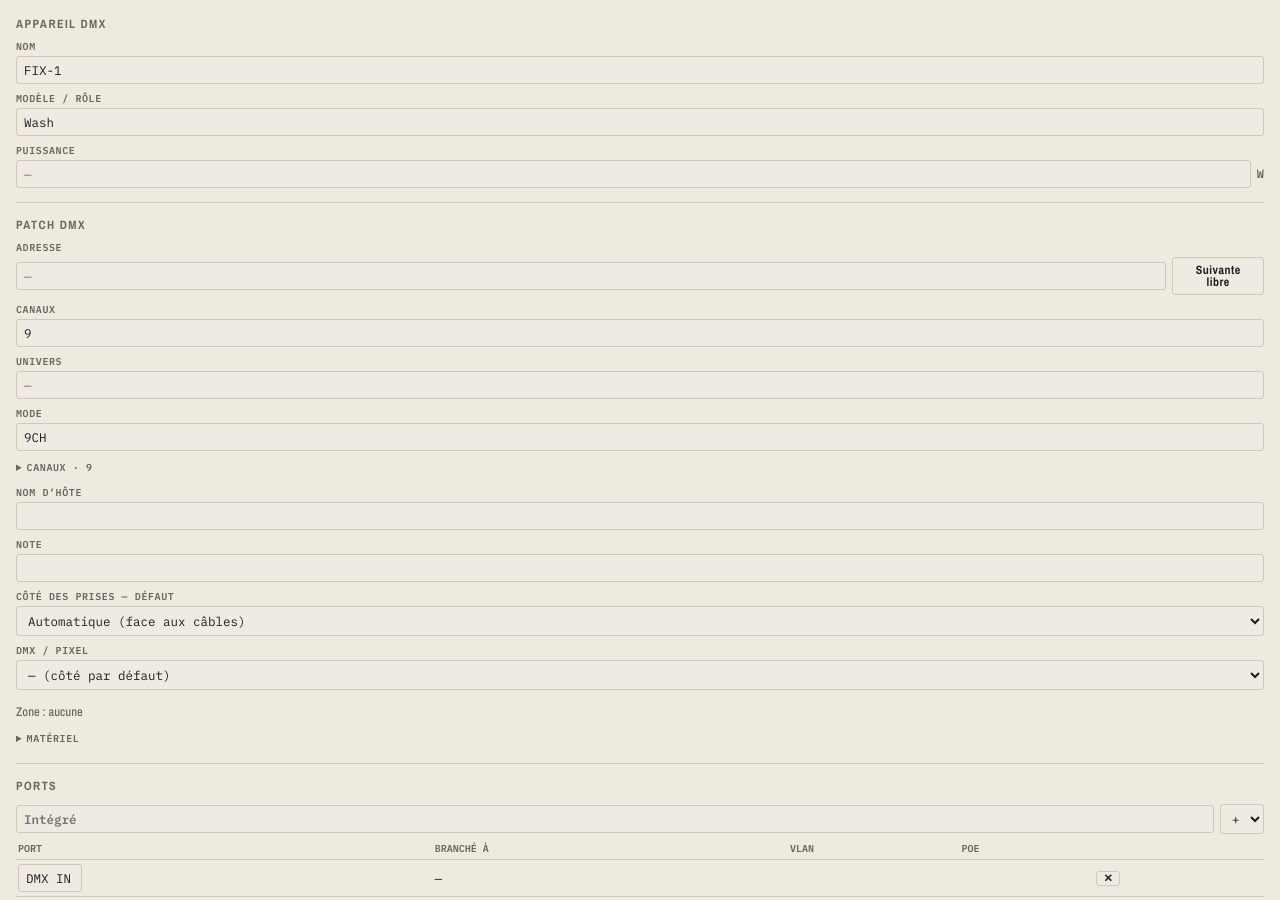
Scenario: inspecteur : canaux DMX › suggestions : liste maison qui défile, toutes les suggestions atteignables
Step 1. Click the dropdown named "Canal 1" → x=60, y=468, box [27,461,93,474]
(page scrolled)
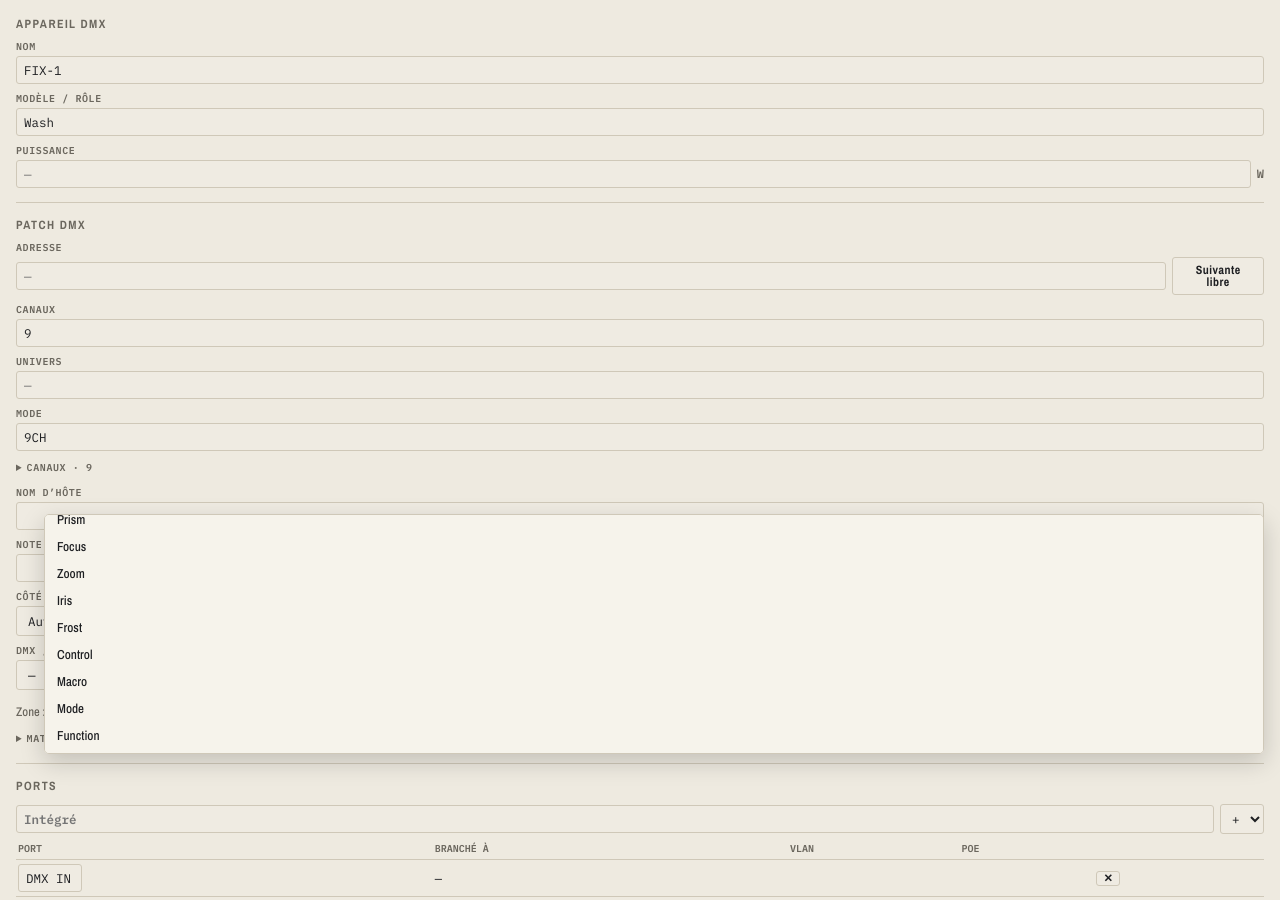
Now the option "Function" is shown, box [57,727,100,744]
